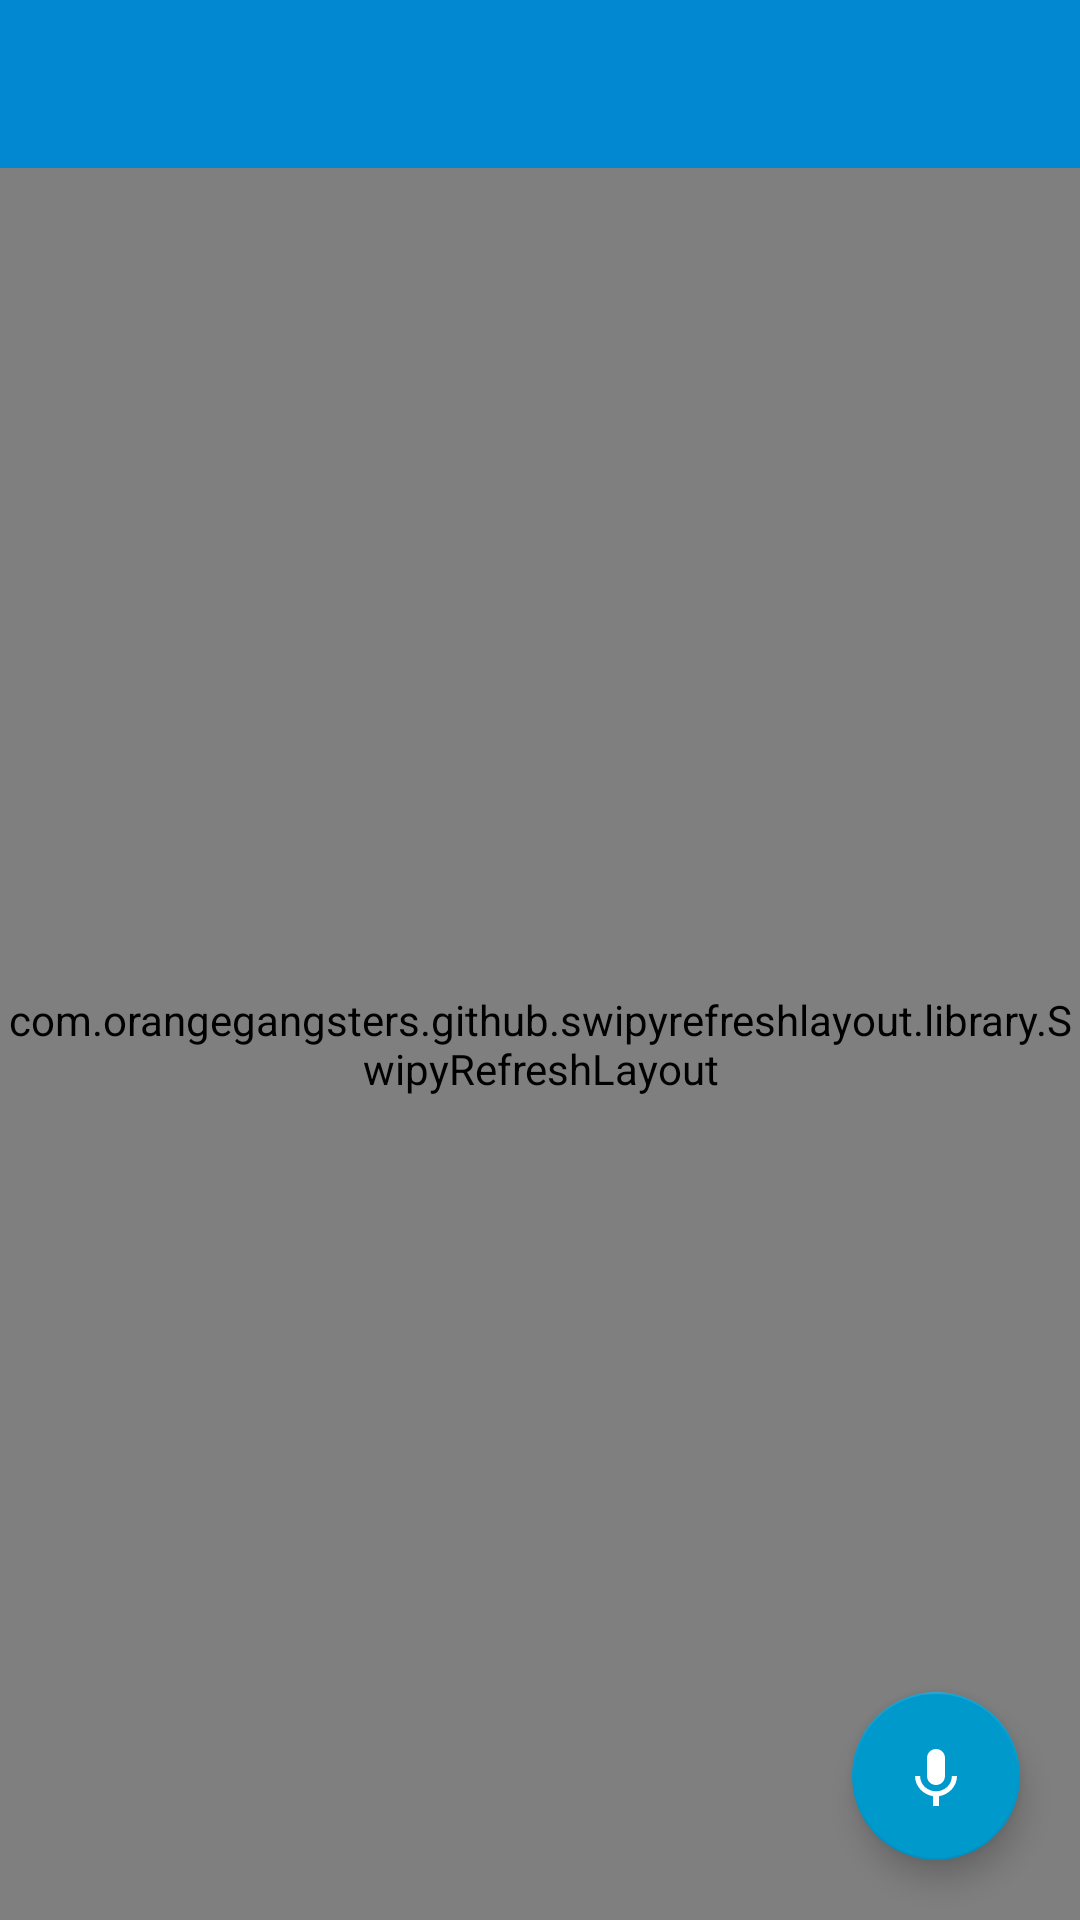

Icons on this 1080px x 1920px Android screen, each with its box as (x1, y1, x2, y2):
talk: (852, 1692, 1020, 1860)
